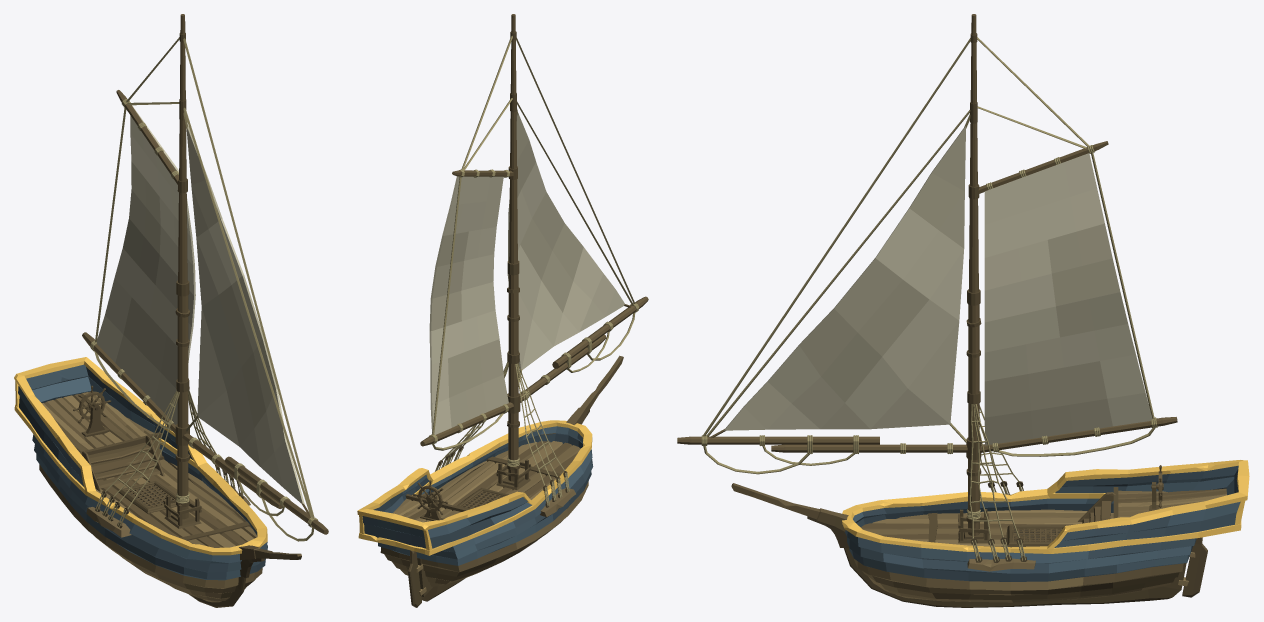
Rendered from SmallShip_1.fbx.
The picture shows the model from 3 angles, left to right: view 1: azimuth 30°, elevation 25°; view 2: azimuth 150°, elevation 25°; view 3: azimuth 270°, elevation 25°; orthographic projection. The views are drawn at different scales.
Parts seen in each view (by area): view 1: Cube.002, SmallShip_1_Sails, SmallShip_1_Mast, SmallShip_1_ShipWheel; view 2: SmallShip_1_Sails, Cube.002, SmallShip_1_Mast, SmallShip_1_ShipWheel; view 3: SmallShip_1_Sails, Cube.002, SmallShip_1_Mast.
Part boxes in pixels (x1,y1,x2,y2): Cube.002: (14,357,301,607); SmallShip_1_Sails: (96,105,304,504); SmallShip_1_Mast: (82,14,328,541); SmallShip_1_ShipWheel: (73,385,111,423); SmallShip_1_Sails: (429,113,625,434); Cube.002: (357,355,623,607); SmallShip_1_Mast: (420,14,648,481); SmallShip_1_ShipWheel: (412,480,447,517); SmallShip_1_Sails: (724,126,1152,445); Cube.002: (731,404,1249,607); SmallShip_1_Mast: (677,14,1177,535).
Bounding box in the file's own units: 542 × 2222 × 1943.
